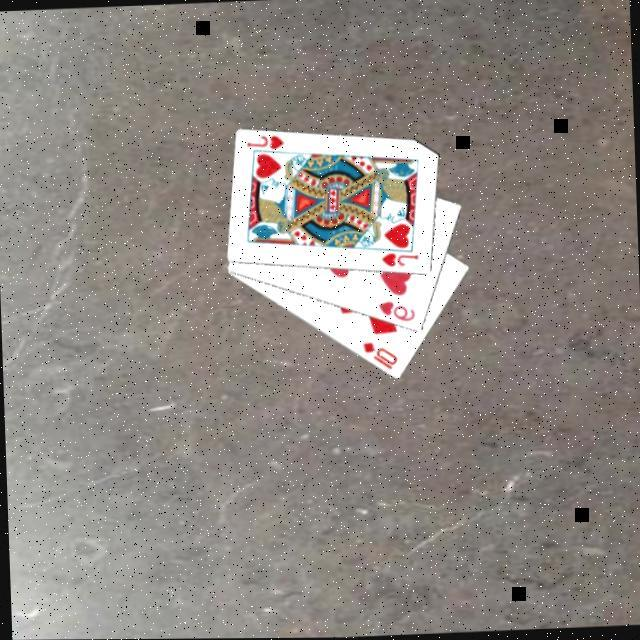10D: (357, 338, 398, 373)
6H: (373, 296, 416, 324)
JH: (376, 248, 419, 269), (242, 132, 284, 152)
